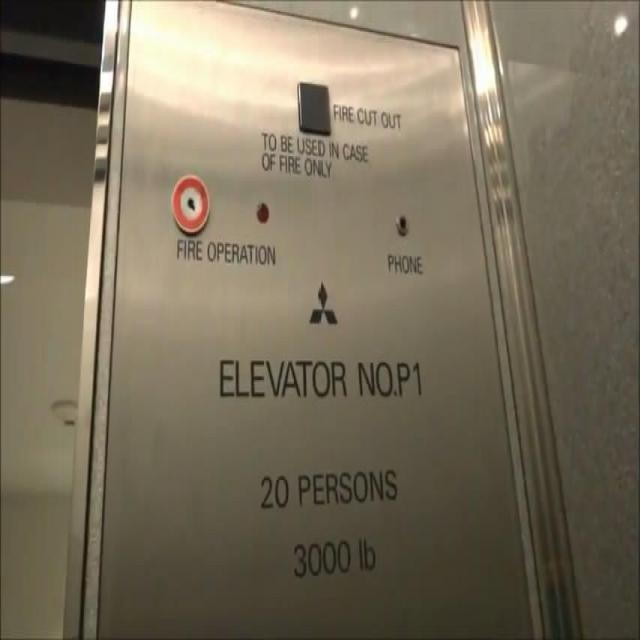empty: (294, 70, 336, 138)
keyhole: (168, 168, 210, 236)
